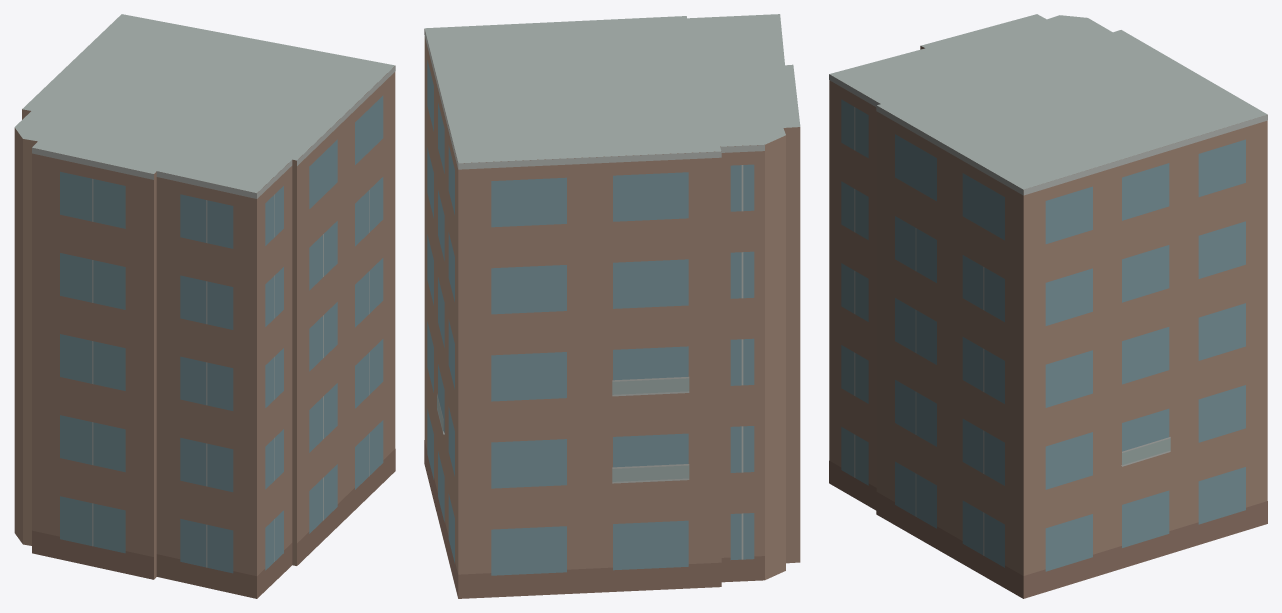
Rendered from survey-upis-32604633.glb.
3 renders of one model, left to right at view 1: azimuth 30°, elevation 25°; view 2: azimuth 150°, elevation 25°; view 3: azimuth 270°, elevation 25°, orthographic. The views are drawn at different scales.
Parts seen in each view (by area): view 1: survey-upis-32604633.tmp; view 2: survey-upis-32604633.tmp; view 3: survey-upis-32604633.tmp.
Part boxes in pixels (bbox=[...]): survey-upis-32604633.tmp: bbox=[14, 14, 395, 598]; survey-upis-32604633.tmp: bbox=[424, 14, 800, 598]; survey-upis-32604633.tmp: bbox=[829, 14, 1267, 598].
Size of the model in its own units: 15.57 by 16.9 by 16.43.
